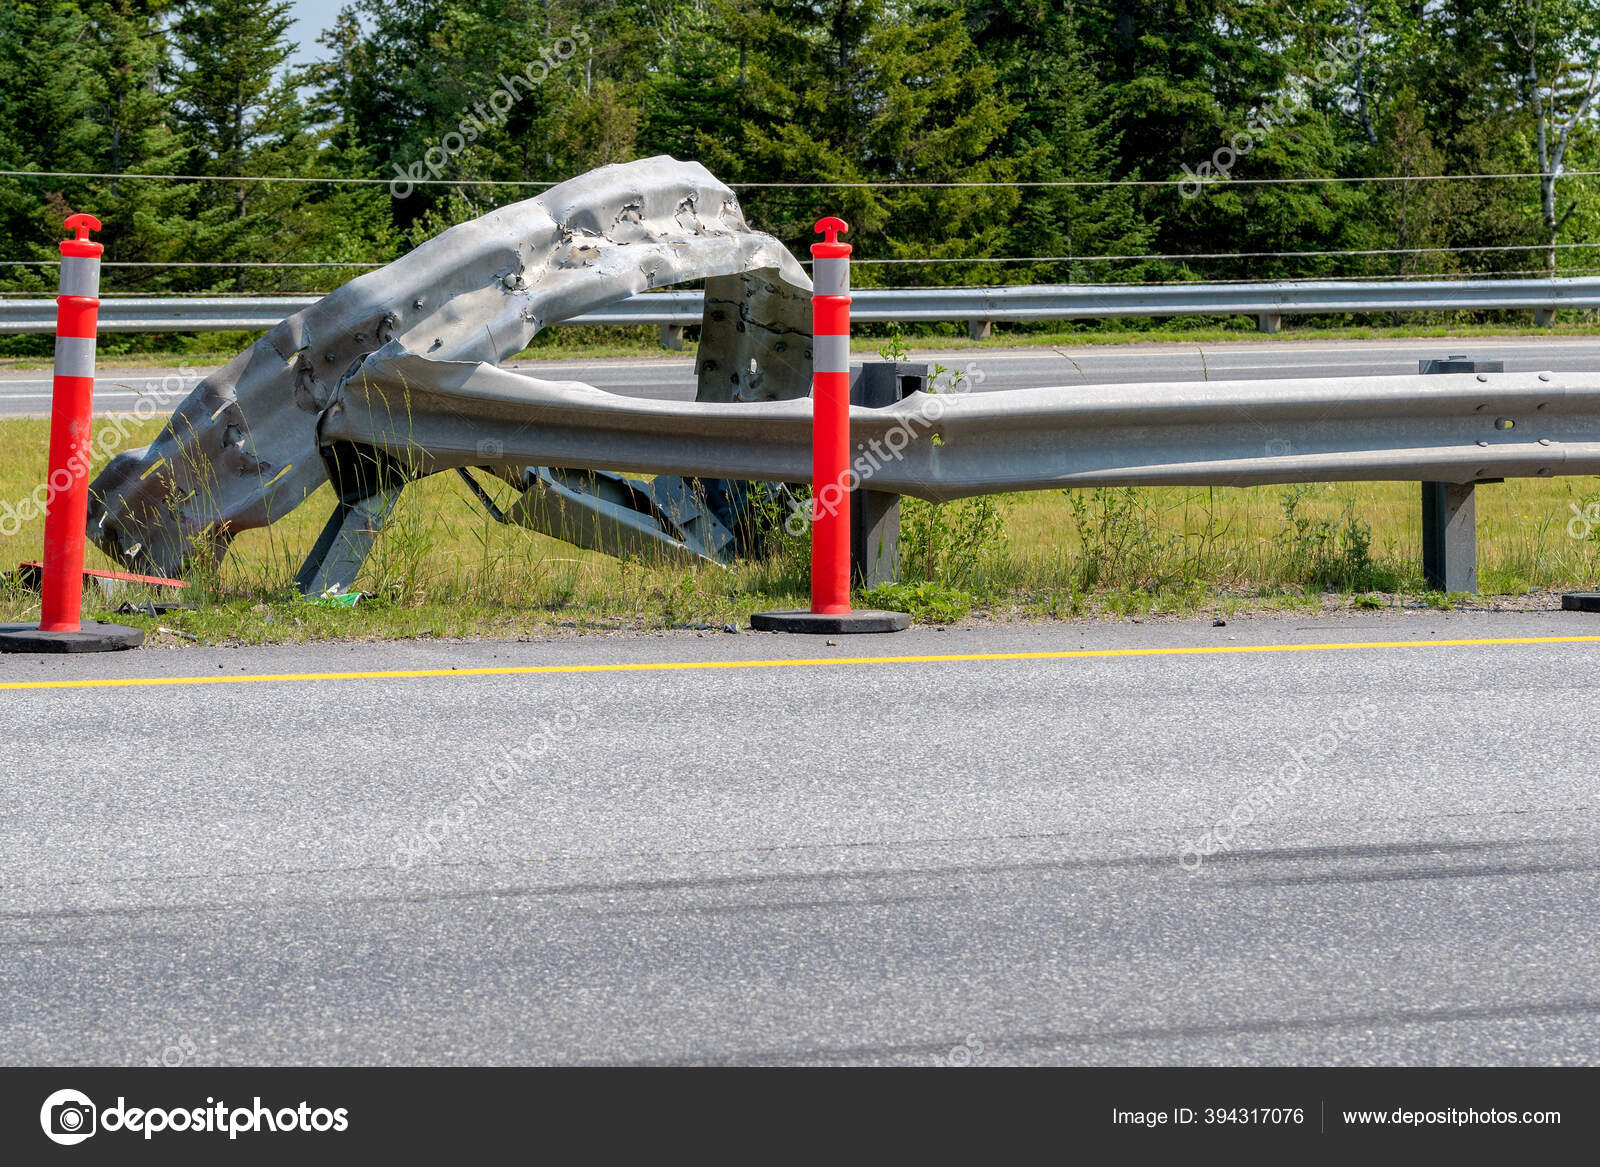damaged: (132, 153, 861, 646)
